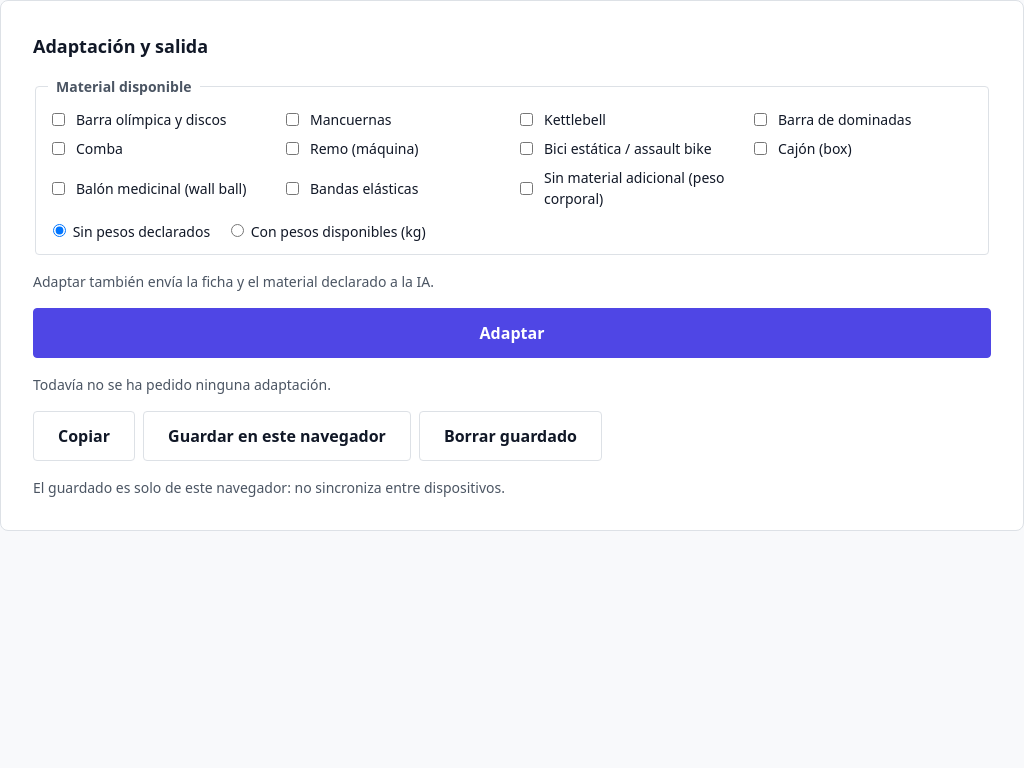
Scenario: AdaptacionPanel › shows a fallback textarea when the clipboard write fails
Step 1. Click the button "Copiar" → x=84, y=436, box 33,411 -> 135,461
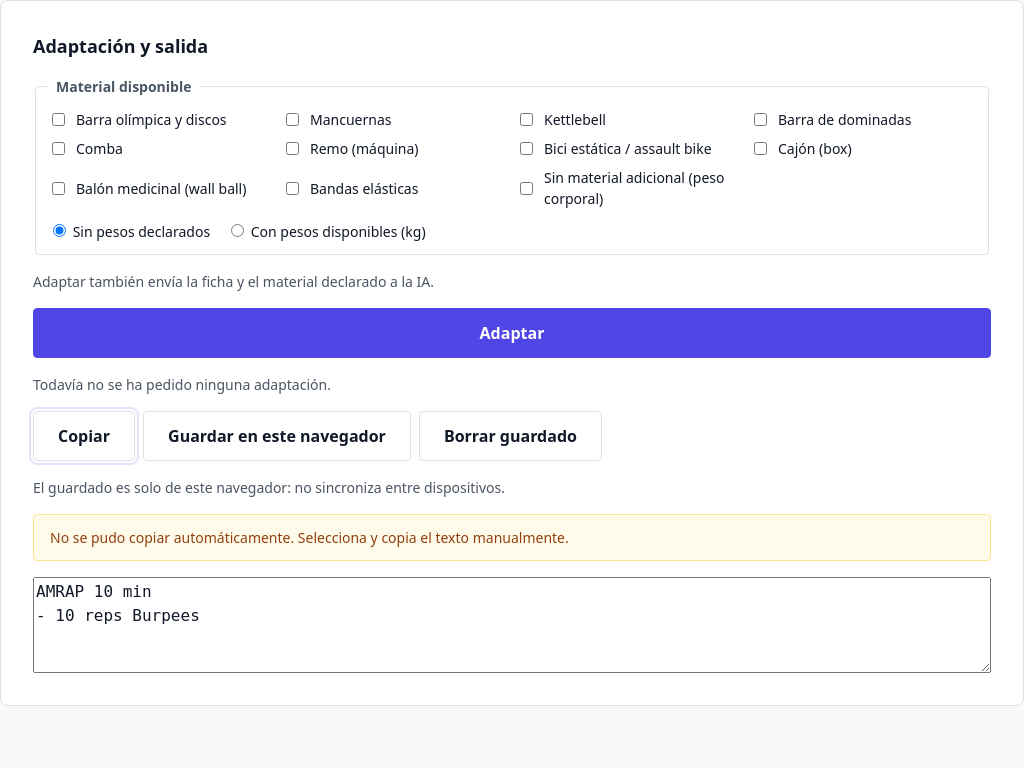
Result: the text box named "Texto para copiar manualmente" is shown at 33,577 -> 991,673
Result: the text "No se pudo copiar automáticamente. Selecciona y copia el texto manualmente." is shown at 33,514 -> 991,561
